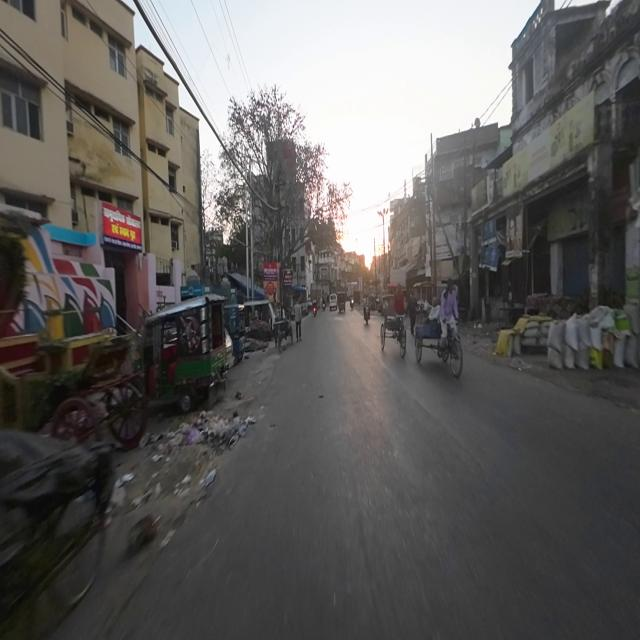Garbage: (143, 402, 255, 488)
